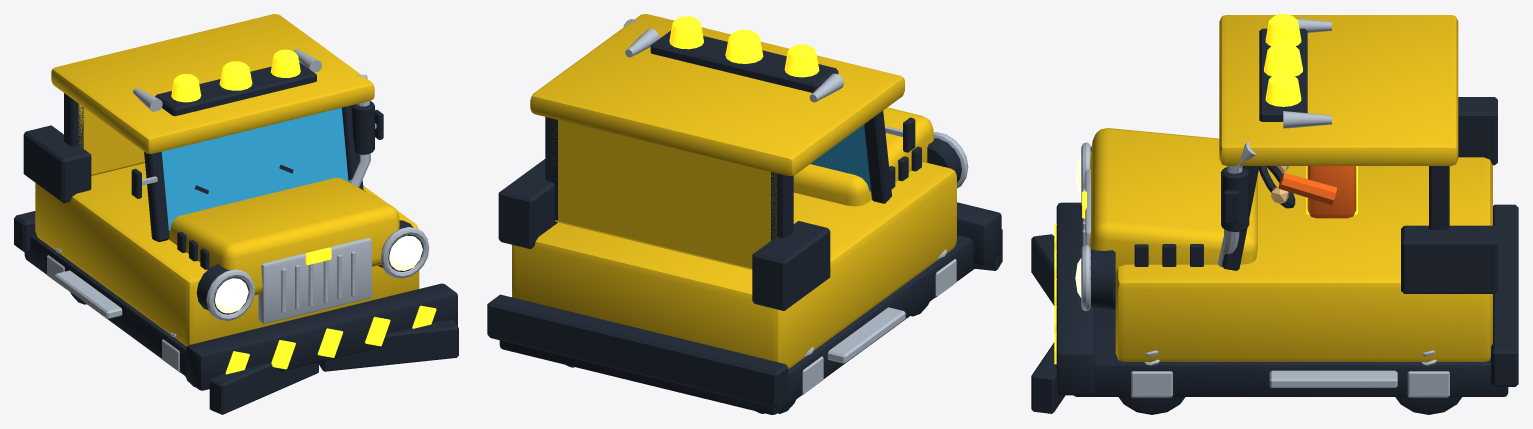
The model's file is vagoneta_speeder.glb.
3 views of the same model, side by side, from view 1: azimuth 30°, elevation 25°; view 2: azimuth 150°, elevation 25°; view 3: azimuth 270°, elevation 25° (orthographic). The views are drawn at different scales.
Visible parts, largest first — view 1: Vagoneta_Speeder; view 2: Vagoneta_Speeder; view 3: Vagoneta_Speeder.
Boxes of the visible parts, x1=… form: Vagoneta_Speeder: x1=14, y1=14, x2=458, y2=414; Vagoneta_Speeder: x1=487, y1=14, x2=1002, y2=414; Vagoneta_Speeder: x1=1031, y1=14, x2=1518, y2=414.
Bounding box in the file's own units: 2.16 × 2 × 2.82.
